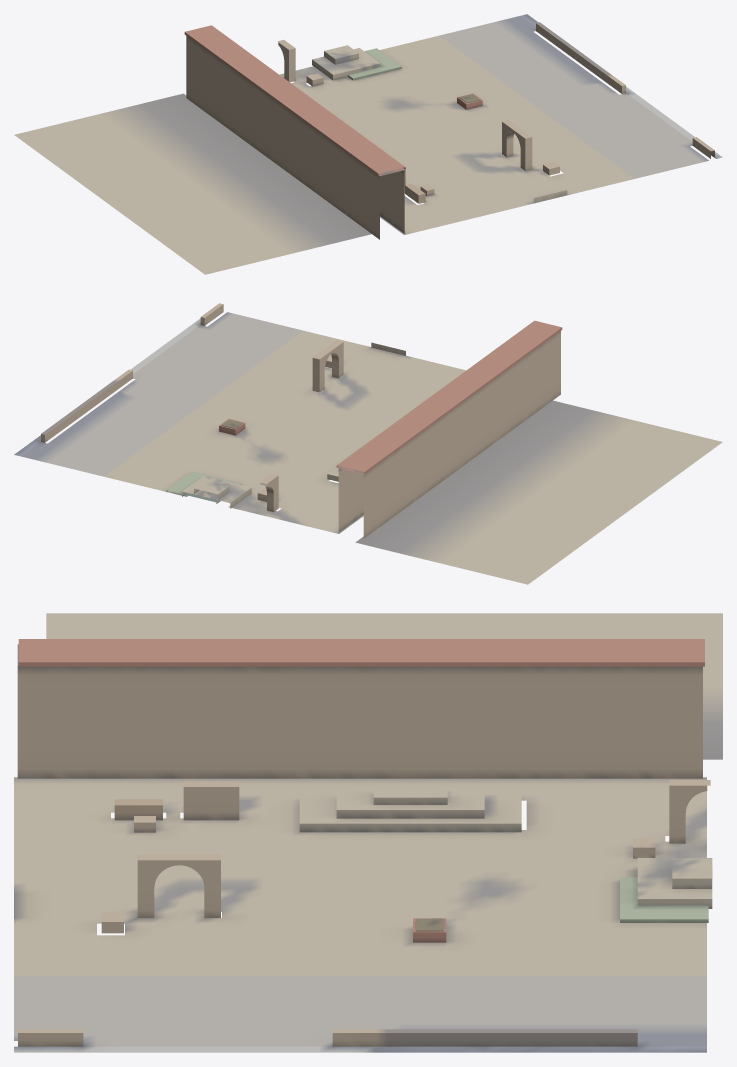
3 views of the same model, one above another, from view 1: azimuth 30°, elevation 25°; view 2: azimuth 150°, elevation 25°; view 3: azimuth 270°, elevation 25° (orthographic). The views are drawn at different scales.
Visible parts, largest first — view 1: t; view 2: t; view 3: t.
Boxes of the visible parts, left/top/right/bottom form: t: left=14, top=14, right=722, bottom=274; t: left=14, top=303, right=722, bottom=584; t: left=14, top=613, right=722, bottom=1052.
Bounding box in the file's own units: 75 × 9.35 × 51.16.
